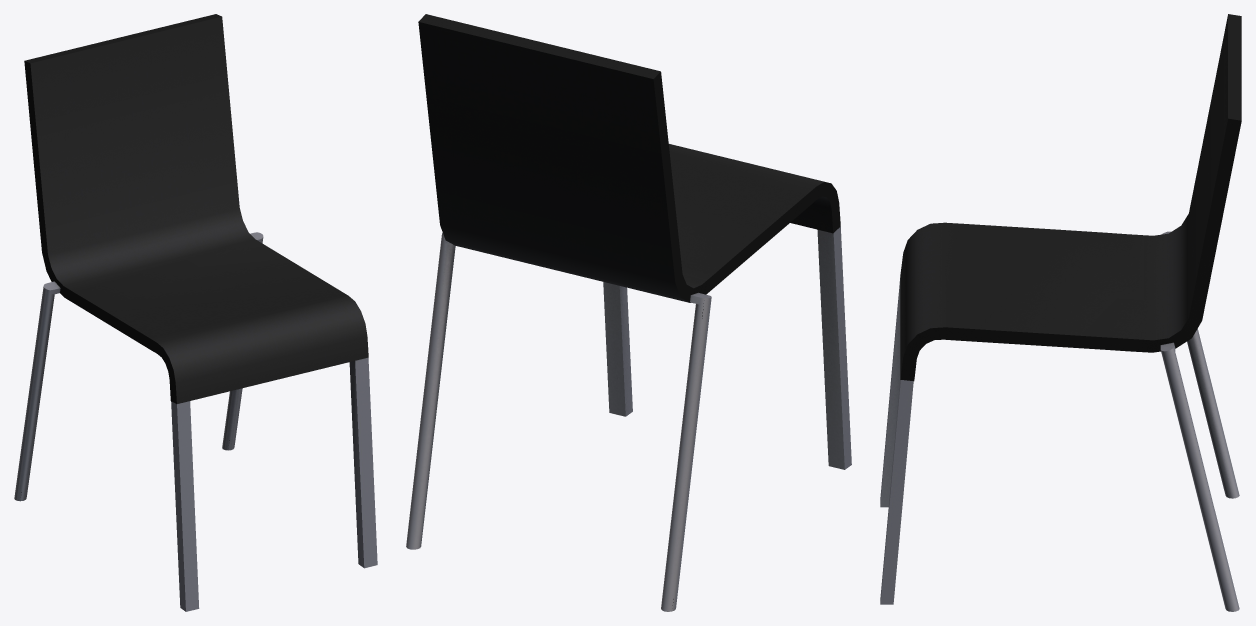
Rendered from 03_black_draco.glb.
The picture shows the model from 3 angles, left to right: view 1: azimuth 30°, elevation 25°; view 2: azimuth 150°, elevation 25°; view 3: azimuth 270°, elevation 25°; orthographic projection. The views are drawn at different scales.
Visible parts, largest first — view 1: 03_black; view 2: 03_black; view 3: 03_black.
Boxes of the visible parts, <box> form: 03_black: <box>14,14,377,611</box>; 03_black: <box>406,14,851,611</box>; 03_black: <box>880,14,1241,611</box>.
Bounding box in the file's own units: 410 × 780 × 526.
1 material, 1 textured.
